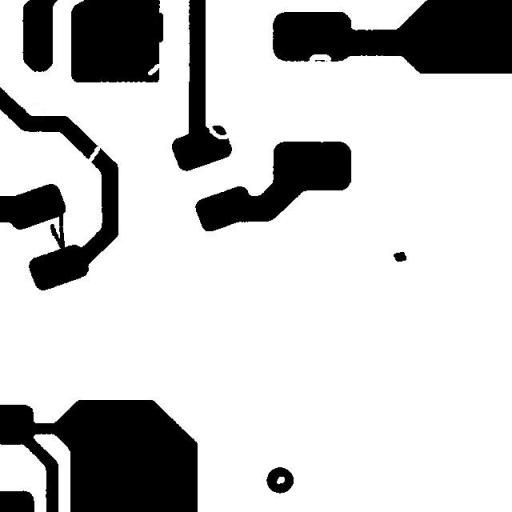copper: (386, 244, 414, 269)
mousebite: (302, 46, 338, 70), (140, 56, 167, 82)
open: (198, 116, 236, 146), (78, 138, 107, 174)
pin-hole: (269, 469, 292, 491)
short: (42, 206, 72, 260)
spur: (150, 4, 170, 50)
